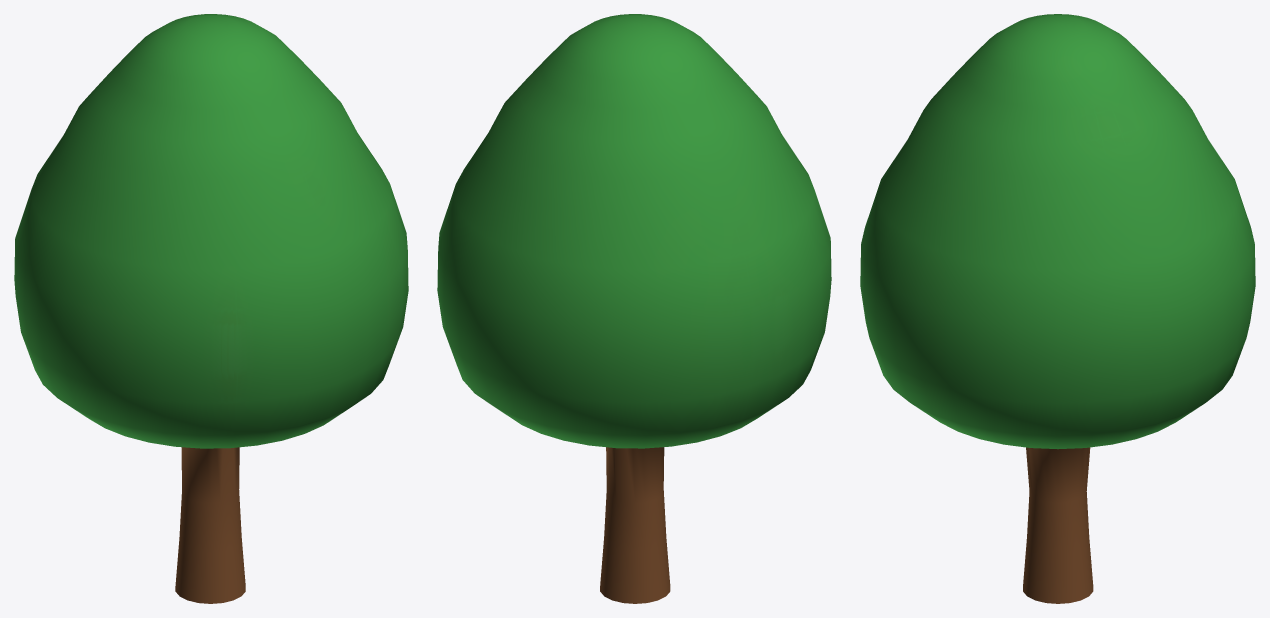
File: tree2.fbx
3 renders of one model, left to right at view 1: azimuth 30°, elevation 25°; view 2: azimuth 150°, elevation 25°; view 3: azimuth 270°, elevation 25°, orthographic.
Visible parts, largest first — view 1: tree2; view 2: tree2; view 3: tree2.
Boxes of the visible parts, x1,y1,x2,y2 form: tree2: (14, 14, 408, 603); tree2: (437, 14, 831, 603); tree2: (860, 14, 1255, 603).
Size of the model in its own units: 152 by 239 by 152.
1 material, 1 textured.
